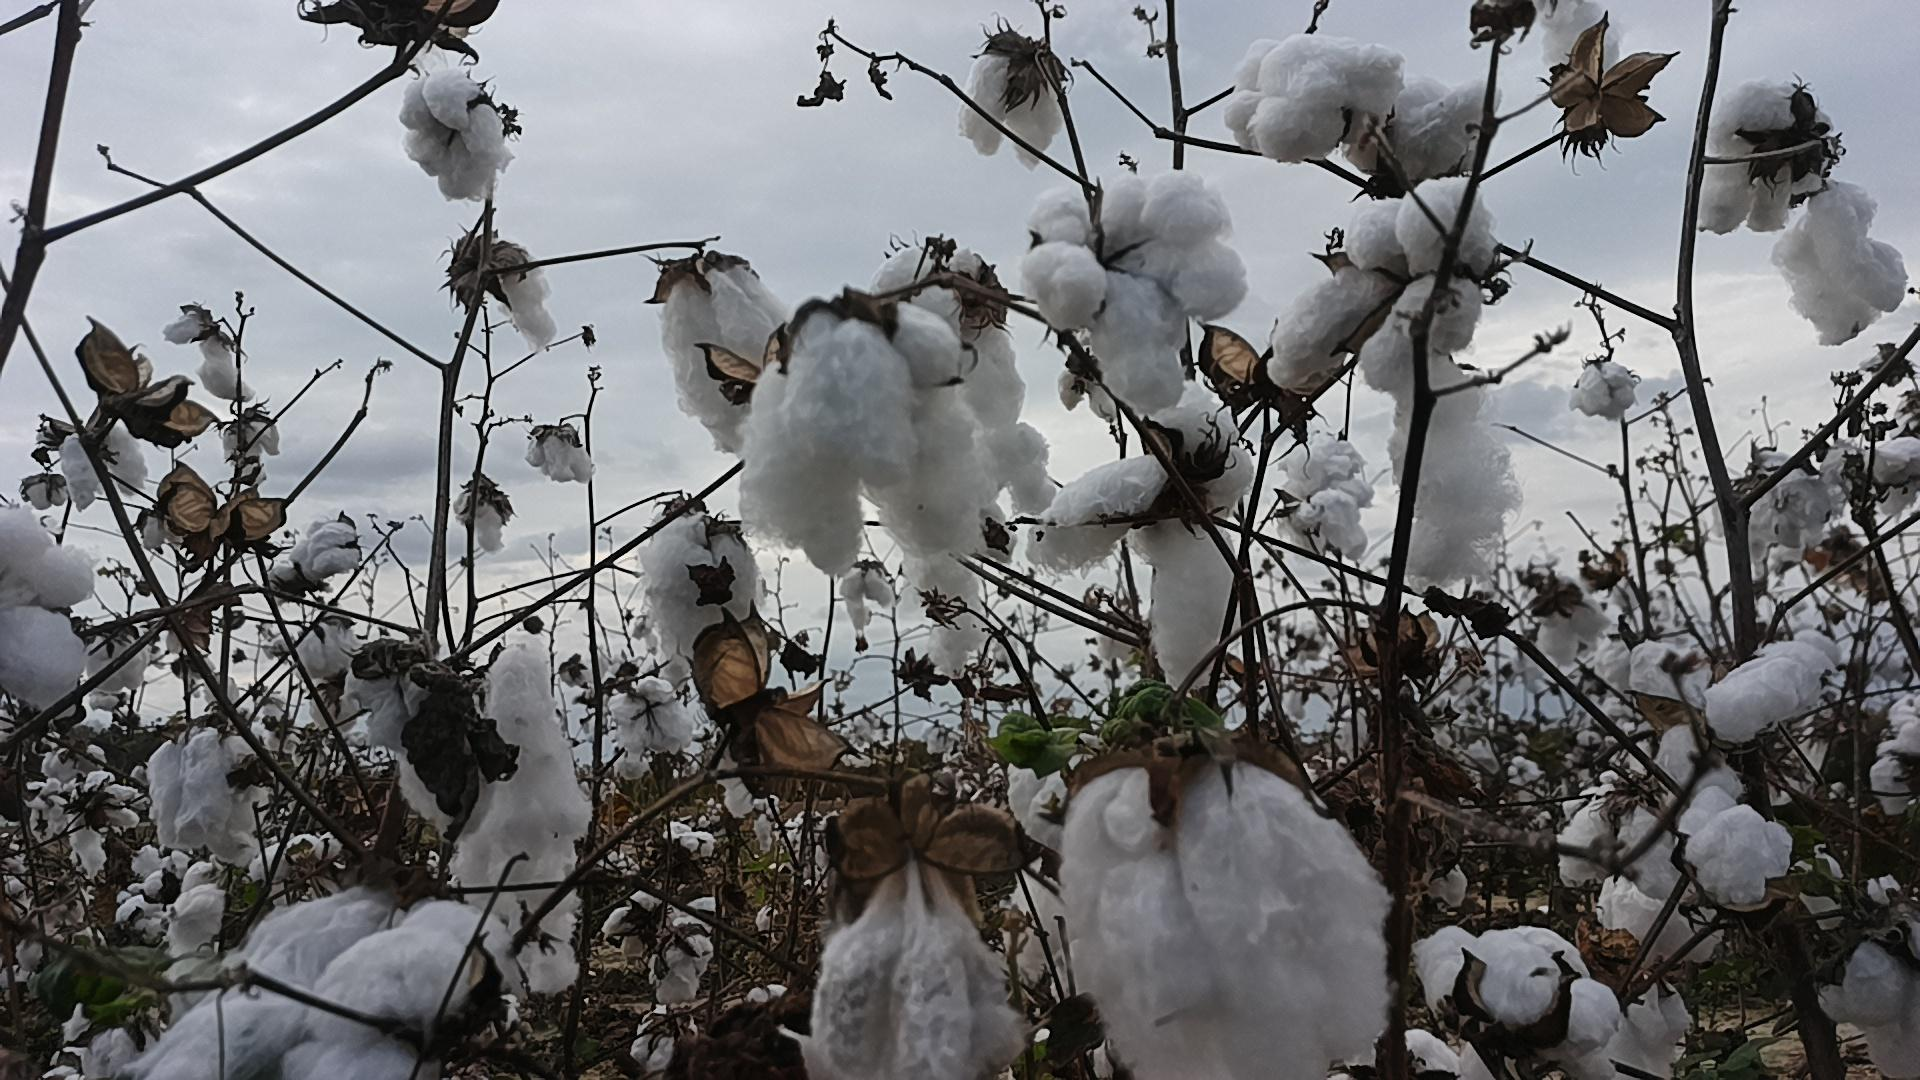cotton_ready: (1266, 175, 1528, 593), (1058, 761, 1390, 1080), (870, 245, 1054, 675), (128, 893, 518, 1080), (1027, 385, 1255, 684), (736, 295, 960, 571), (1026, 167, 1247, 407), (810, 845, 1029, 1080), (450, 646, 580, 998), (1412, 923, 1618, 1072), (666, 256, 794, 454), (1689, 69, 1838, 235), (1770, 178, 1911, 349), (1224, 37, 1411, 161), (348, 650, 465, 831), (0, 505, 100, 707), (638, 516, 766, 667), (1345, 75, 1503, 195), (1811, 920, 1920, 1080), (1704, 625, 1841, 746), (1557, 786, 1692, 905), (398, 70, 516, 206), (600, 891, 723, 1015), (148, 728, 268, 855), (1274, 426, 1375, 563), (1007, 723, 1116, 851), (1713, 455, 1838, 560), (957, 46, 1068, 164), (1685, 803, 1797, 915), (1006, 856, 1092, 1002), (1598, 877, 1727, 973), (1580, 978, 1701, 1080)
